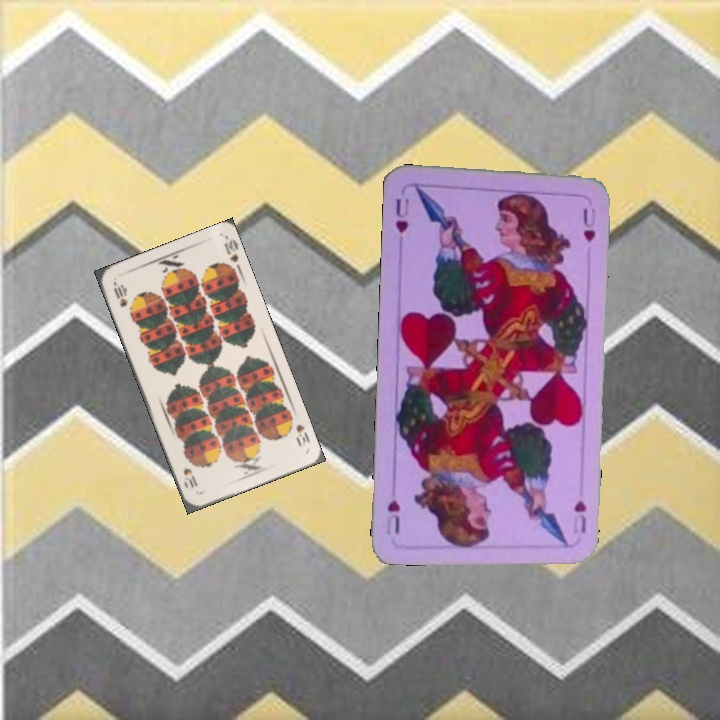HU: (392, 194, 412, 236), (570, 496, 589, 536)
S10: (109, 279, 130, 310), (292, 420, 313, 449)
